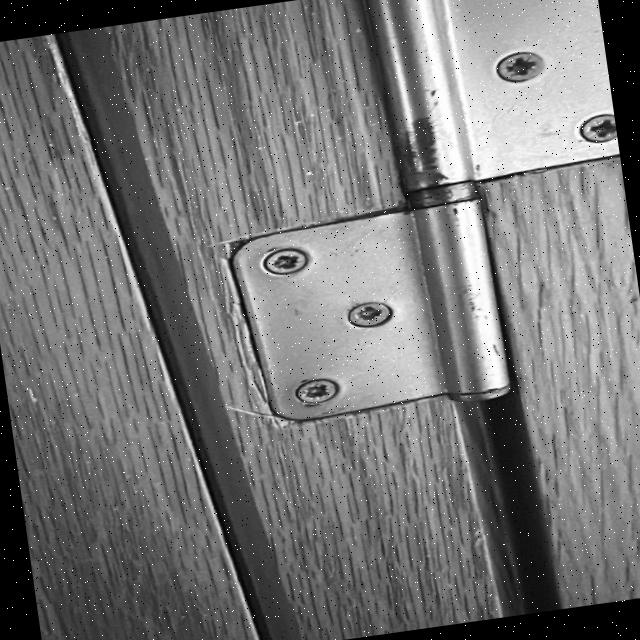Pozidriv: (282, 371, 356, 414), (339, 292, 404, 340), (569, 100, 620, 160), (254, 243, 318, 281), (492, 47, 552, 84)
